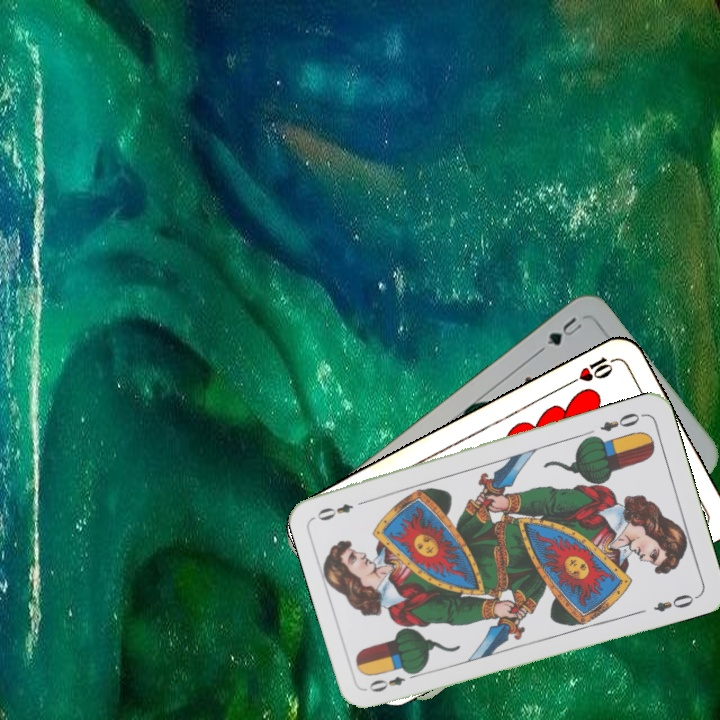EO: (365, 666, 422, 695), (596, 409, 647, 434)
GU: (542, 312, 586, 348)
H10: (564, 353, 619, 388)
